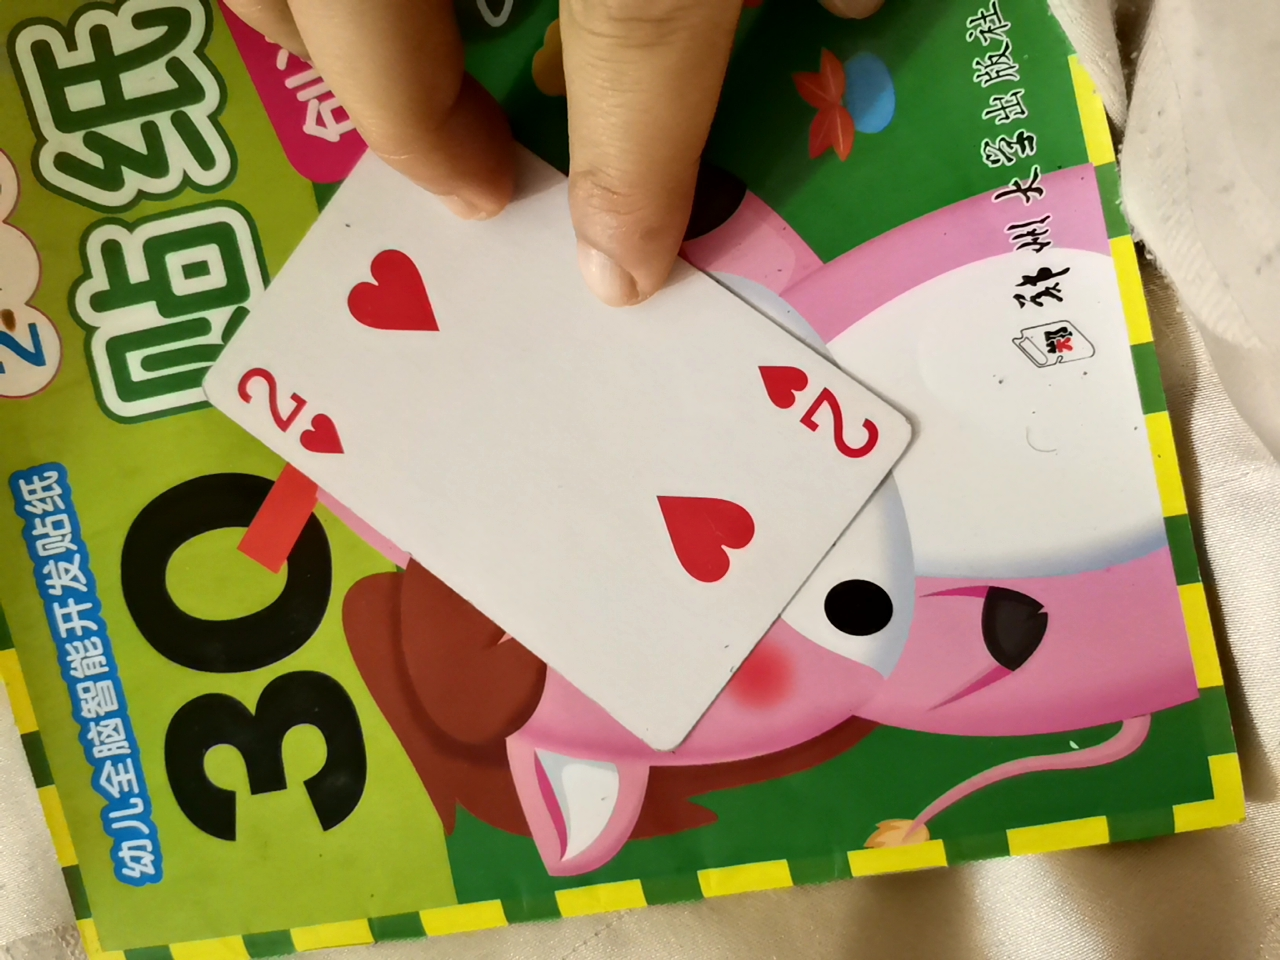hx 2: (206, 163, 892, 775)
